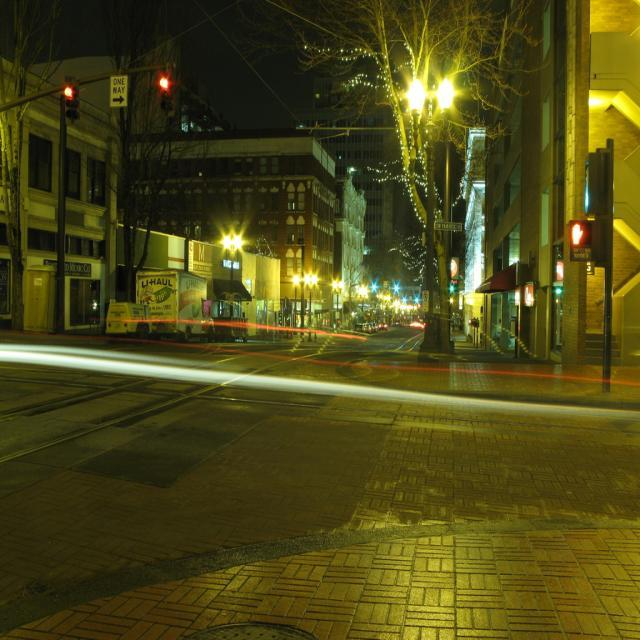traffic light: (61, 81, 80, 121), (158, 77, 171, 112)
